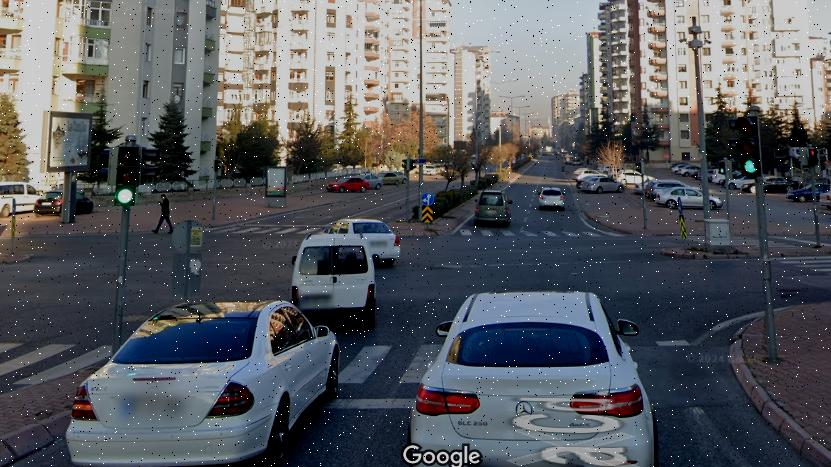greenlight: (738, 113, 766, 178), (116, 143, 140, 210)
